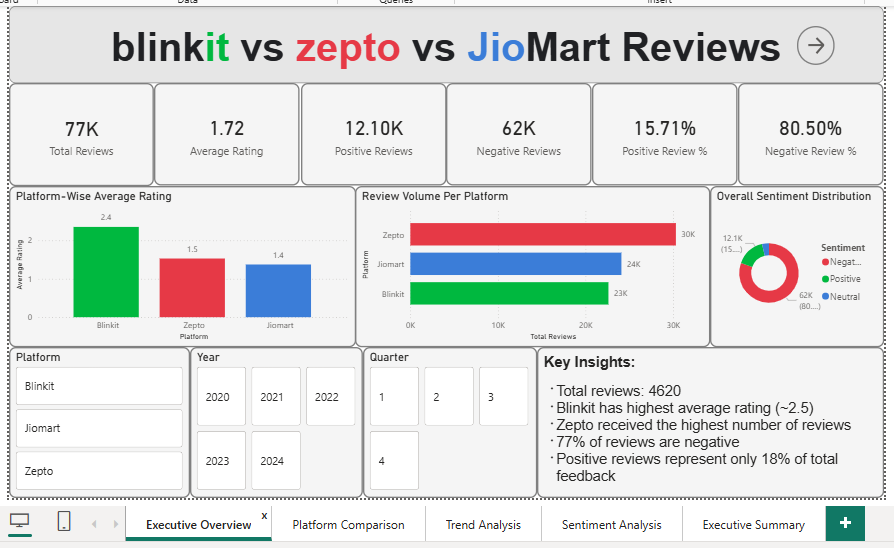

The page's visual inventory and layout, read from the dashboard file:
{"tool":"powerbi","page":{"name":"Executive Overview","canvas":[1280,720],"ordinal":0},"visuals":[{"type":"textbox","box":[0,0,1280,112.7],"z":0},{"type":"card","fields":{"Values":["Table of Measures.Total Reviews"]},"box":[0,112.7,212,150.7],"z":1000},{"type":"card","fields":{"Values":["Table of Measures.Average Rating"]},"box":[212.7,112.6,212.7,150.2],"z":2000},{"type":"card","fields":{"Values":["Table of Measures.Positive Reviews"]},"box":[427.3,112.6,212.7,150.2],"z":3000},{"type":"card","fields":{"Values":["Table of Measures.Negative Reviews"]},"box":[640,112.6,212.7,150.2],"z":4000},{"type":"card","fields":{"Values":["Table of Measures.Positive Review %"]},"box":[852.7,112.6,212.7,150.2],"z":5000},{"type":"clusteredColumnChart","title":"Platform-Wise Average Rating","fields":{"Category":["Platform.Platform"],"Y":["Table of Measures.Average Rating"]},"box":[0,262.8,507.7,236],"z":6000},{"type":"clusteredBarChart","title":"Review Volume Per Platform","fields":{"Category":["Platform.Platform"],"Y":["Table of Measures.Total Reviews"]},"box":[506.3,263.4,519.5,235.6],"z":7000},{"type":"donutChart","title":"Overall Sentiment Distribution","fields":{"Category":["Reviews.Sentiment"],"Y":["CountNonNull(Reviews.Review_Text)"]},"box":[1025.9,263.4,254.6,235.6],"z":8000},{"type":"advancedSlicerVisual","fields":{"Values":["Reviews.Platform"]},"box":[0,499,264.9,221],"z":9000},{"type":"advancedSlicerVisual","fields":{"Values":["Reviews.Year"]},"box":[264.9,499,253.2,221],"z":10000},{"type":"advancedSlicerVisual","fields":{"Values":["Reviews.Quarter"]},"box":[518,499,254.6,221],"z":11000},{"type":"actionButton","box":[1153.1,28.6,55.4,57.2],"z":12000},{"type":"textbox","box":[772.7,499,507.8,221],"z":13000},{"type":"card","fields":{"Values":["Table of Measures.Negative Review %"]},"box":[1067.3,112.6,212.7,150.2],"z":13001}]}

Visuals, with their boxes in screenshot pixels (x1, y1, x2, y2):
textbox: bbox(2, 2, 884, 80)
card - Table of Measures.Total Reviews: bbox(2, 80, 148, 184)
card - Table of Measures.Average Rating: bbox(149, 80, 295, 183)
card - Table of Measures.Positive Reviews: bbox(297, 80, 443, 183)
card - Table of Measures.Negative Reviews: bbox(443, 80, 590, 183)
card - Table of Measures.Positive Review %: bbox(590, 80, 736, 183)
"Platform-Wise Average Rating" clusteredColumnChart: bbox(2, 183, 352, 346)
"Review Volume Per Platform" clusteredBarChart: bbox(351, 184, 709, 346)
"Overall Sentiment Distribution" donutChart: bbox(709, 184, 884, 346)
advancedSlicerVisual - Reviews.Platform: bbox(2, 346, 185, 498)
advancedSlicerVisual - Reviews.Year: bbox(185, 346, 359, 498)
advancedSlicerVisual - Reviews.Quarter: bbox(359, 346, 534, 498)
actionButton: bbox(797, 22, 835, 61)
textbox: bbox(535, 346, 884, 498)
card - Table of Measures.Negative Review %: bbox(737, 80, 884, 183)
